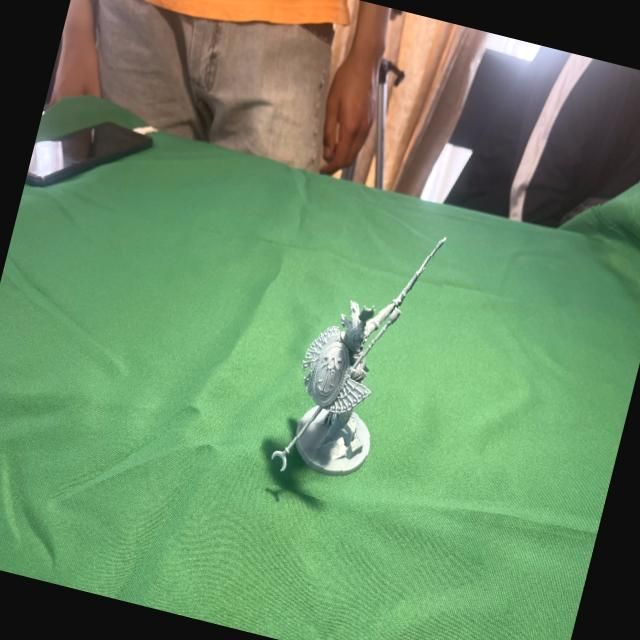isis: (253, 190, 457, 516)
